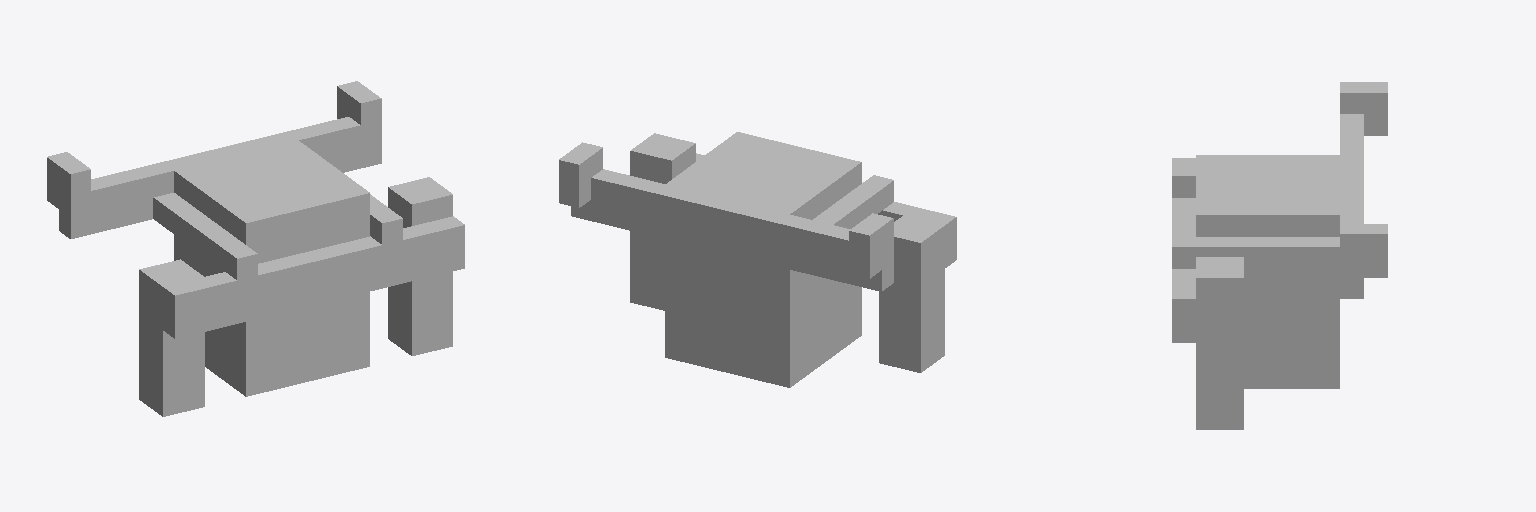
The model's file is power_generators_starter_electric.obj.
The picture shows the model from 3 angles: view 1: azimuth 30°, elevation 25°; view 2: azimuth 150°, elevation 25°; view 3: azimuth 270°, elevation 25°; orthographic projection.
Visible parts, largest first — view 1: node_0_0_0.002; view 2: node_0_0_0.002; view 3: node_0_0_0.002.
Boxes of the visible parts, x1,y1,x2,y2 form: node_0_0_0.002: [47, 81, 464, 416]; node_0_0_0.002: [559, 132, 956, 387]; node_0_0_0.002: [1172, 82, 1387, 429].
Size of the model in its own units: 0.9375 by 0.5625 by 0.5625.